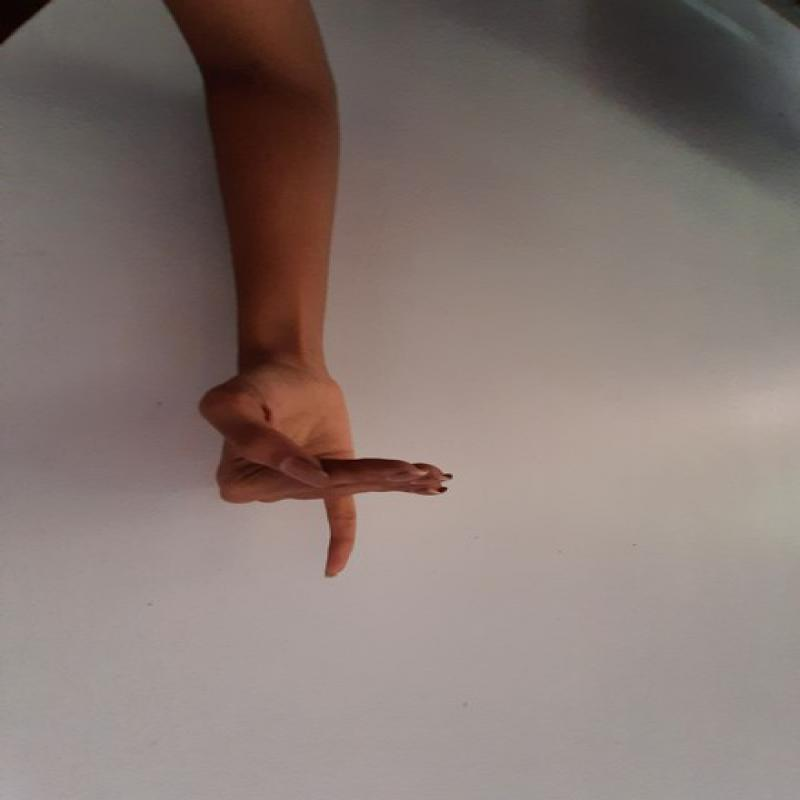Kartharee Mukham: (185, 345, 459, 584)
